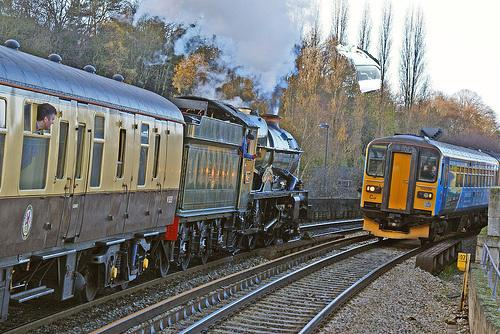tampered: (336, 45, 380, 93)
